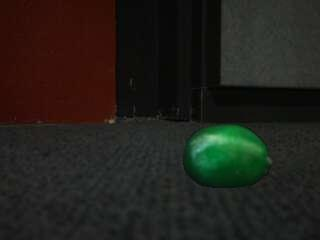Lime: (183, 124, 272, 188)
